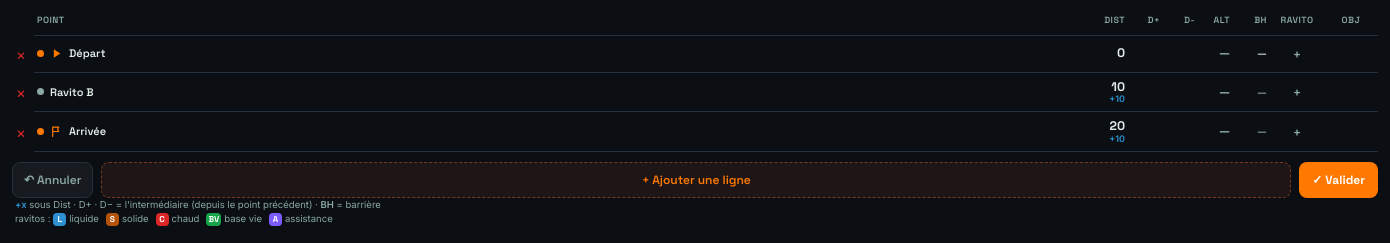
Test: Valider conserve les modifications
This screenshot has width=1390, height=243.
Click the button named "Supprimer la ligne".
click(21, 92)  # box [12,83,30,101]
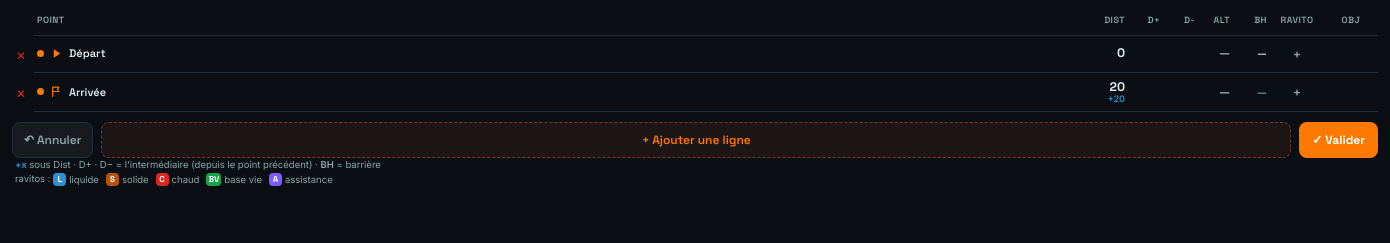
Click the button "✓ Valider".
click(1339, 140)  # box [1299,122,1378,158]
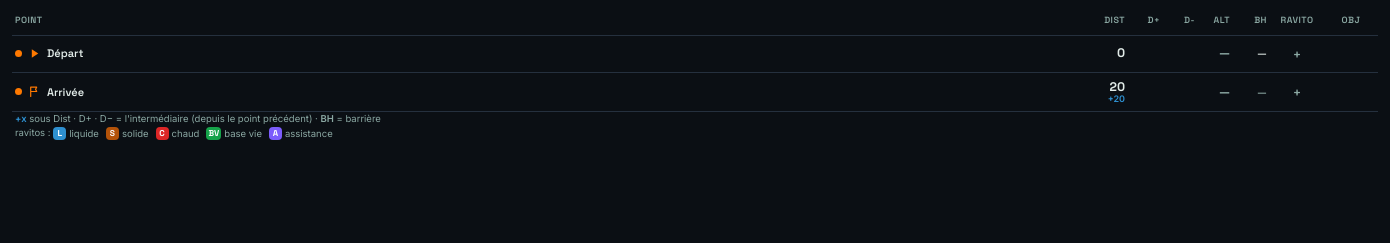
Expected: the field showing "Ravito B" is not shown
Expected: the button "Valider" is gone
